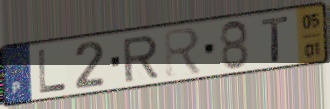2: (72, 39, 107, 92)
8: (218, 18, 251, 73)
L: (36, 47, 68, 95)
R: (162, 25, 205, 79), (121, 33, 161, 84)
T: (260, 14, 292, 64)
